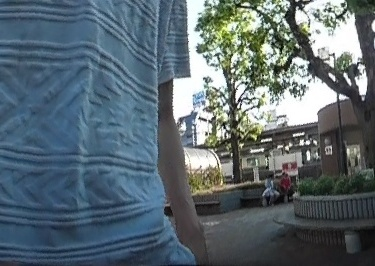person: (262, 174, 275, 204), (279, 172, 291, 200)
